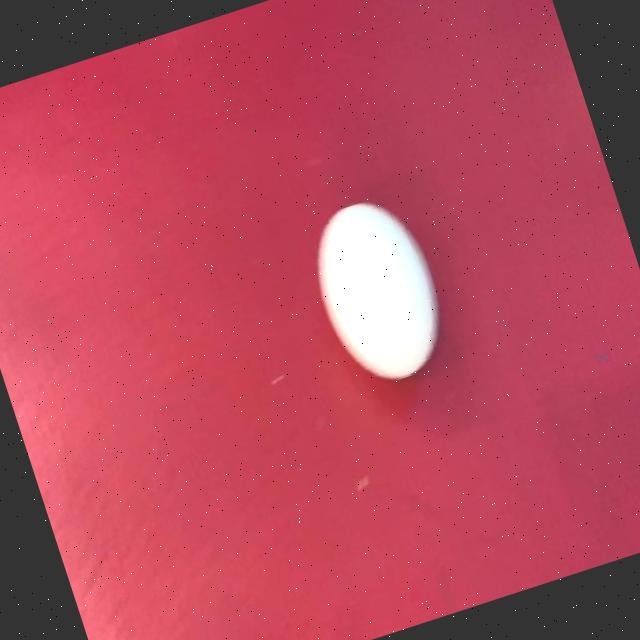ping-pong-ball: (290, 173, 464, 409)
